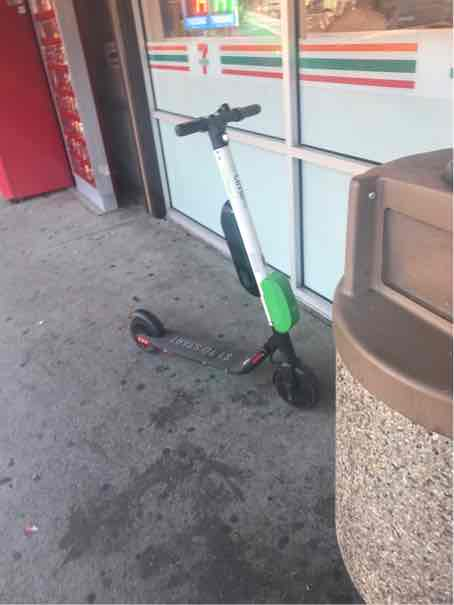scooter: (125, 90, 327, 409)
